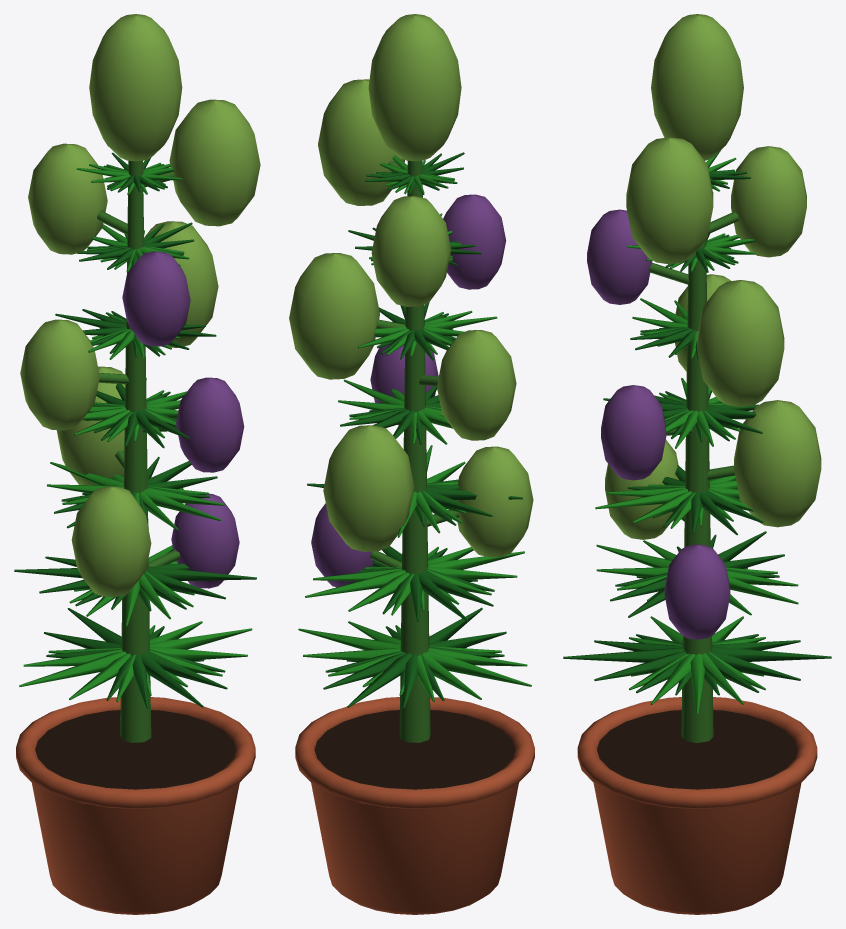
File: WeedPot3.obj
3 renders of one model, left to right at view 1: azimuth 30°, elevation 25°; view 2: azimuth 150°, elevation 25°; view 3: azimuth 270°, elevation 25°, orthographic.
Size of the model in its own units: 0.15 by 0.5342 by 0.15.
